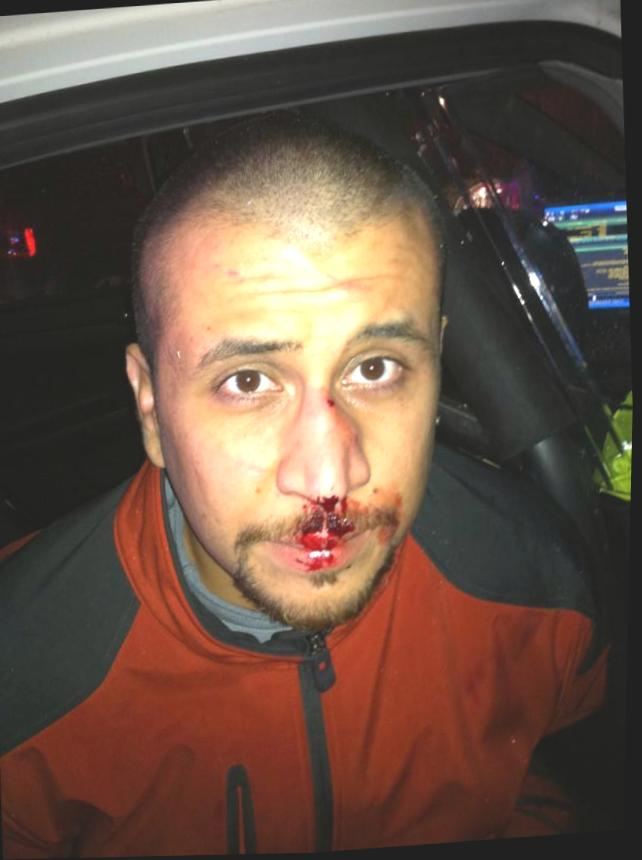Fire: (292, 497, 359, 590), (311, 381, 357, 431)
